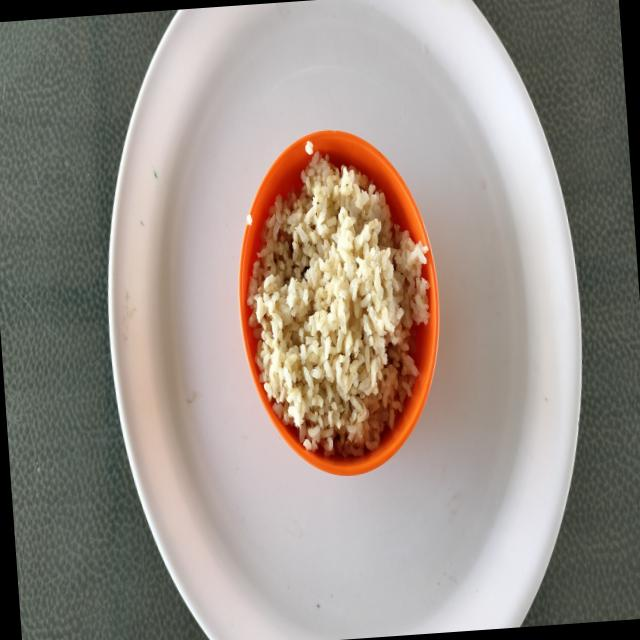brown-rice: (247, 153, 429, 457)
